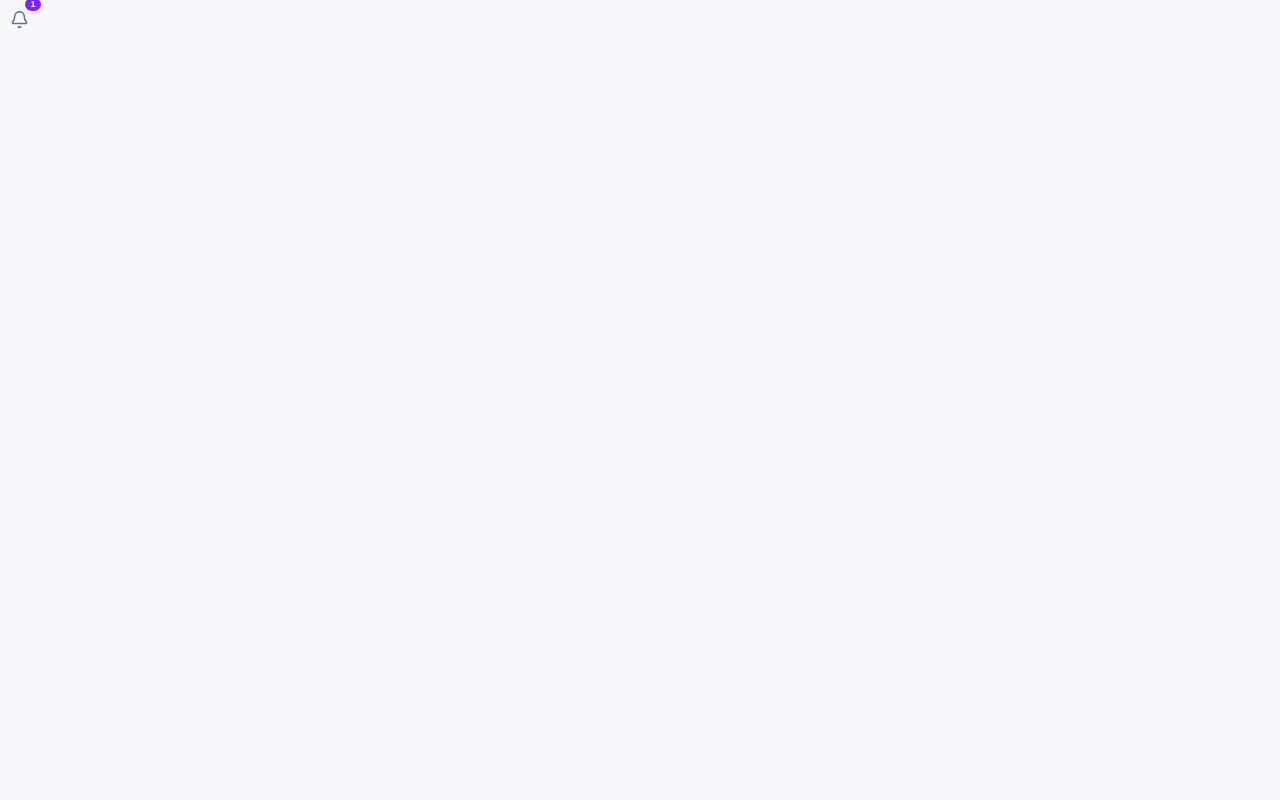
Scenario: notification center › opens the right-side feed, shows unread count, and closes on outside click
Step 1. Click the button named "Notifications" → (20, 20), box [0,0,39,39]
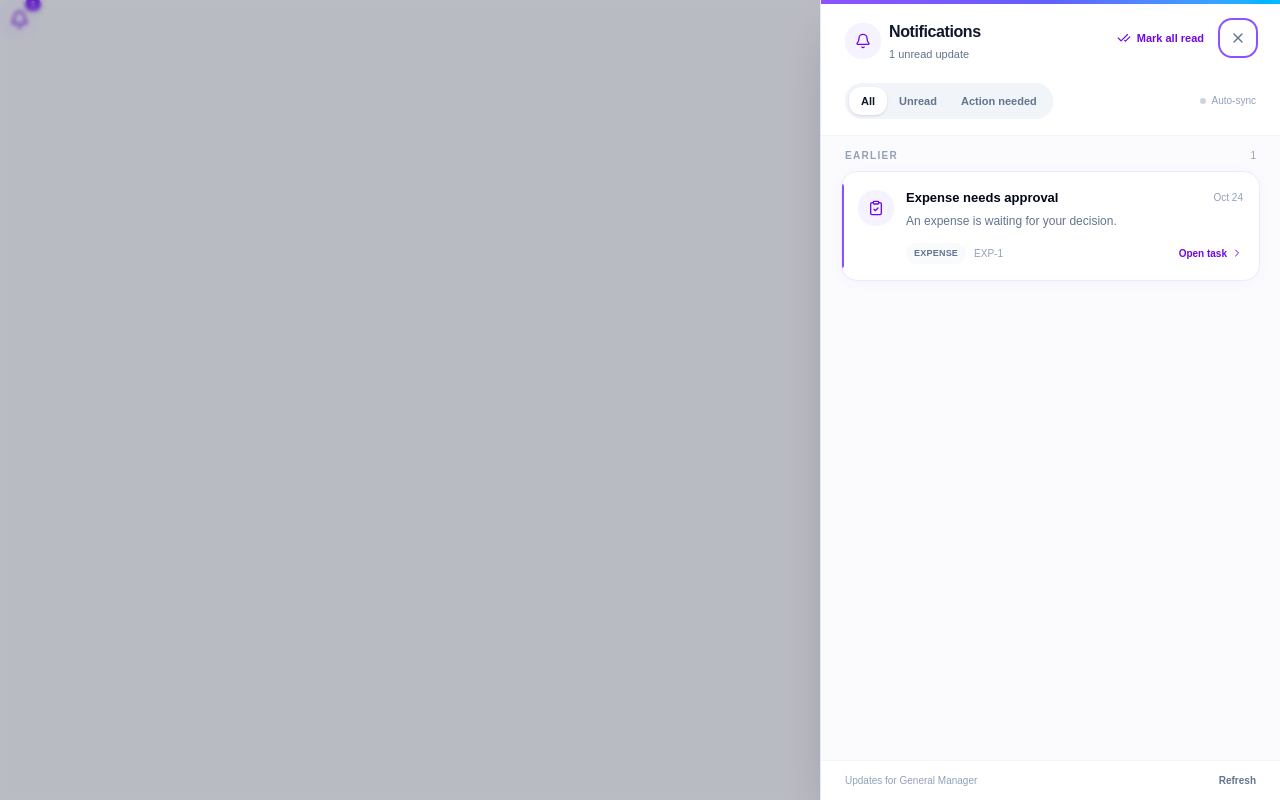
Expected: the text "Expense needs approval" is shown, [906,188,1058,208]
Step 2. Press the mouse on the element that starts with "Notifications" → (640, 400), box [0,0,1279,799]
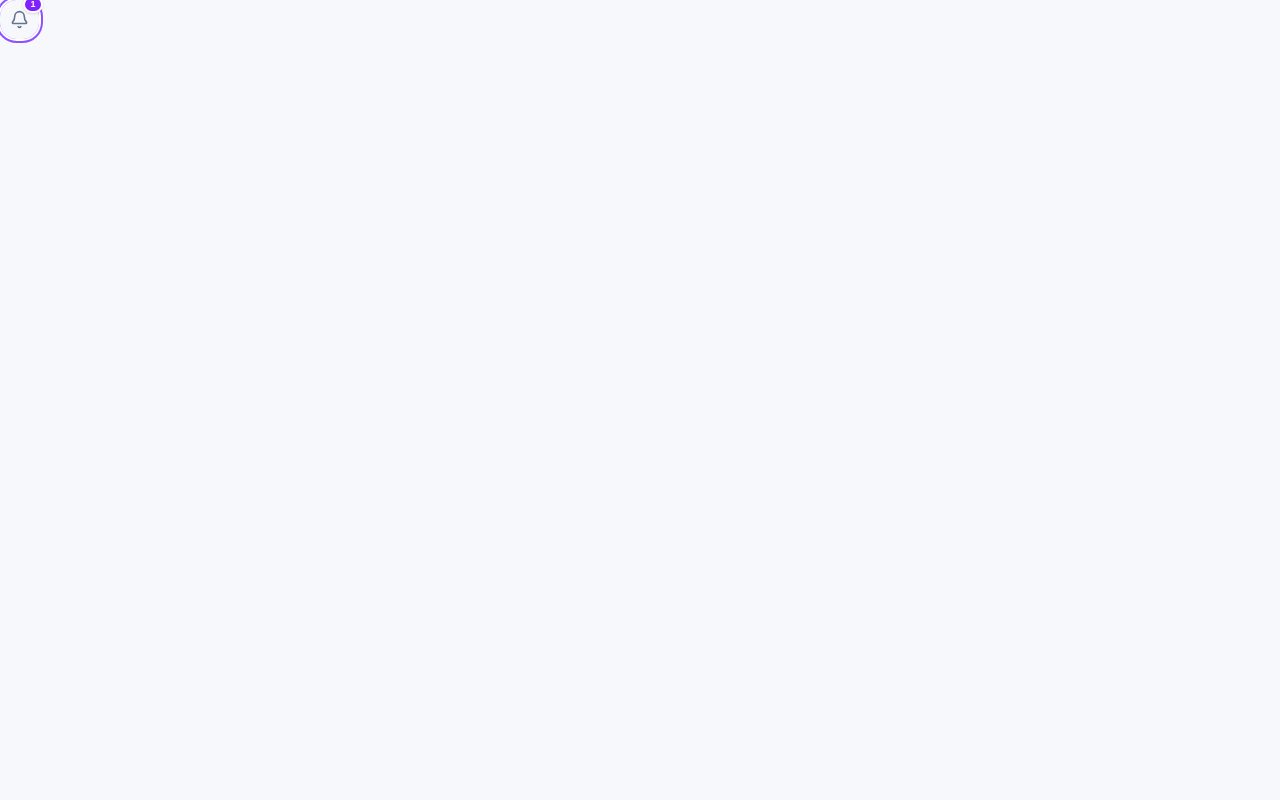
Expected: the dialog is gone
